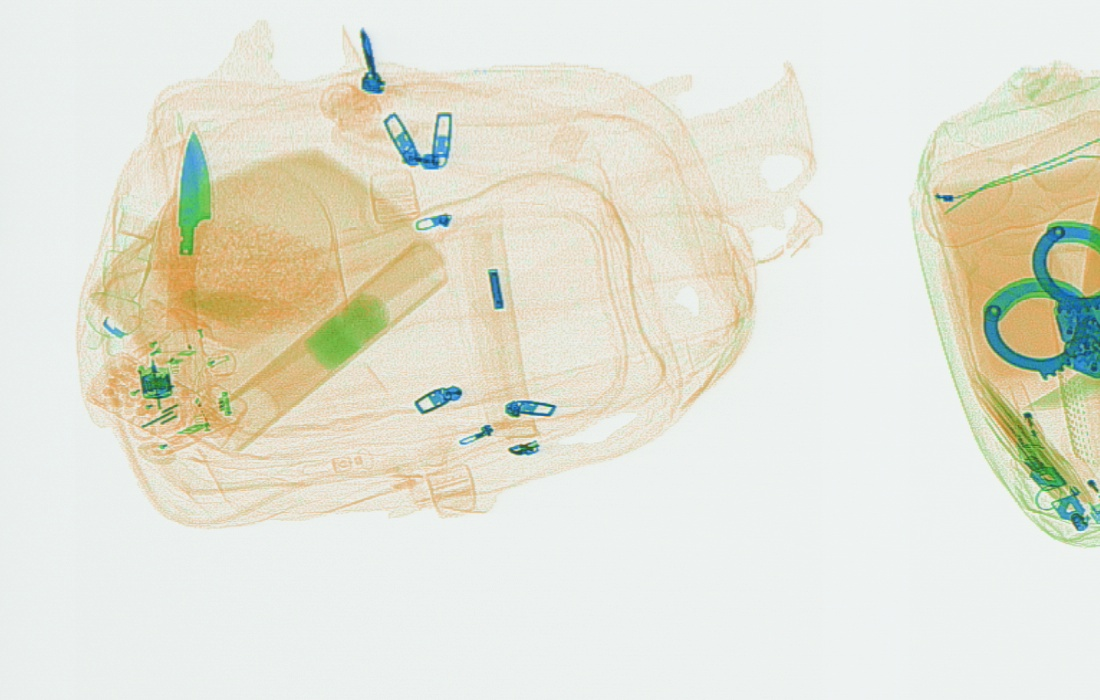firecrackers: (213, 239, 447, 449)
handcuffs: (981, 221, 1097, 380)
knife: (164, 120, 215, 330)
lighter: (991, 381, 1047, 465), (1052, 451, 1097, 527)
